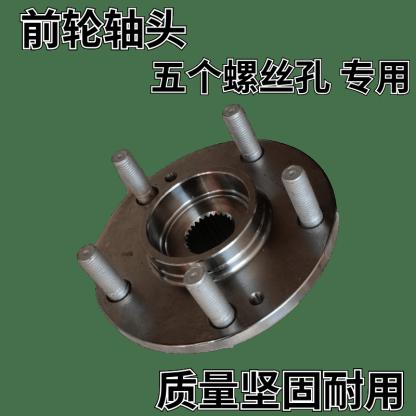FOD: (88, 135, 340, 358)
